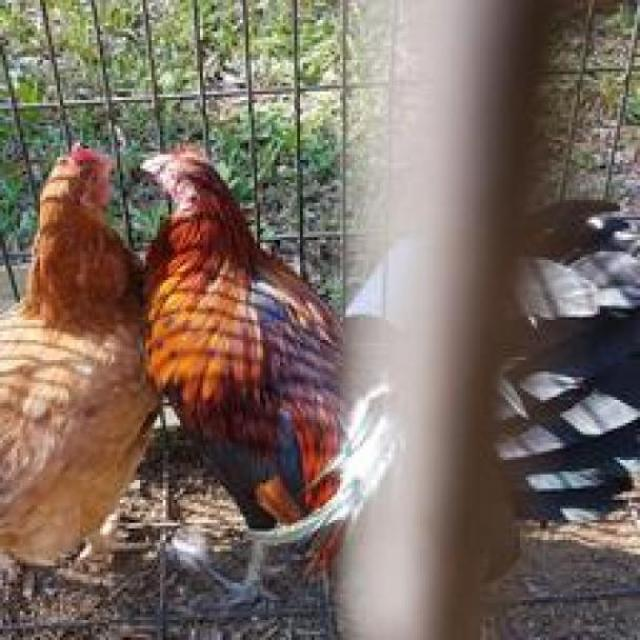Chicken: (136, 142, 421, 609)
